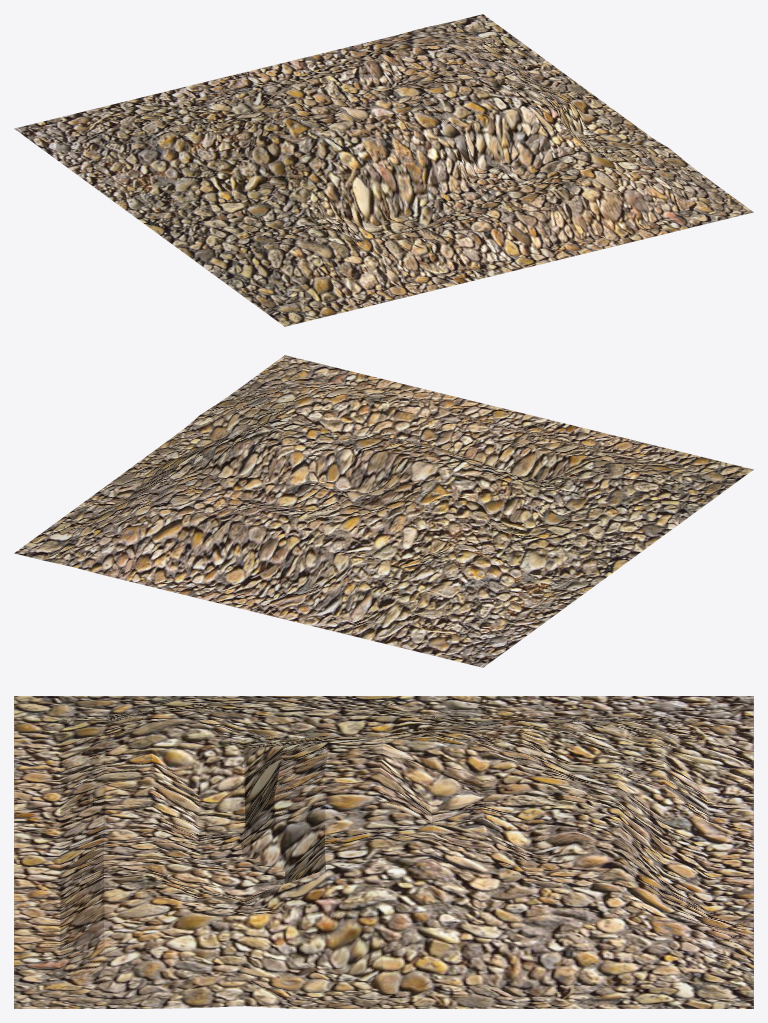
Rendered from sand01.fbx.
The picture shows the model from 3 angles, top to bottom: view 1: azimuth 30°, elevation 25°; view 2: azimuth 150°, elevation 25°; view 3: azimuth 270°, elevation 25°; orthographic projection. The views are drawn at different scales.
Parts seen in each view (by area): view 1: Plane; view 2: Plane; view 3: Plane.
Part boxes in pixels (<box>): Plane: <box>14,14,753,326</box>; Plane: <box>14,355,753,667</box>; Plane: <box>14,696,753,1008</box>.
Size of the model in its own units: 400 by 46.37 by 400.
